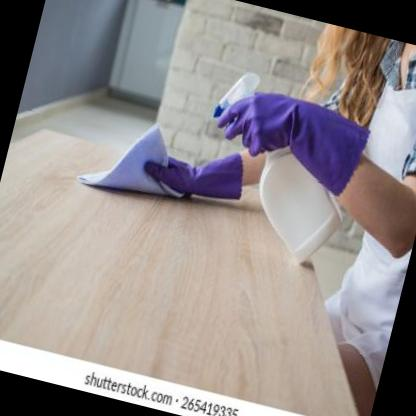Gloves: (204, 82, 374, 204), (140, 132, 252, 205)
